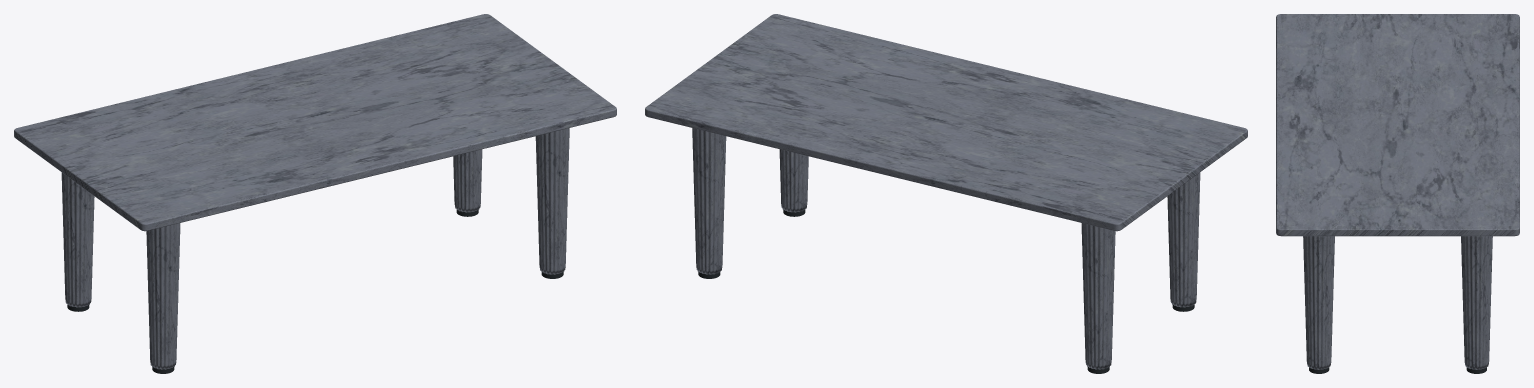
The model's file is premium-grey-marble-dining.glb.
3 views of the same model, side by side, from view 1: azimuth 30°, elevation 25°; view 2: azimuth 150°, elevation 25°; view 3: azimuth 270°, elevation 25° (orthographic). The views are drawn at different scales.
Visible parts, largest first — view 1: rectangular_marble_slab; view 2: rectangular_marble_slab; view 3: rectangular_marble_slab.
Part boxes in pixels (x1,y1,x2,y2): rectangular_marble_slab: (14, 14, 616, 369); rectangular_marble_slab: (645, 14, 1247, 369); rectangular_marble_slab: (1276, 14, 1519, 369).
Bounding box in the file's own units: 2.2 × 0.7601 × 1.05.
2 materials, 1 textured.
